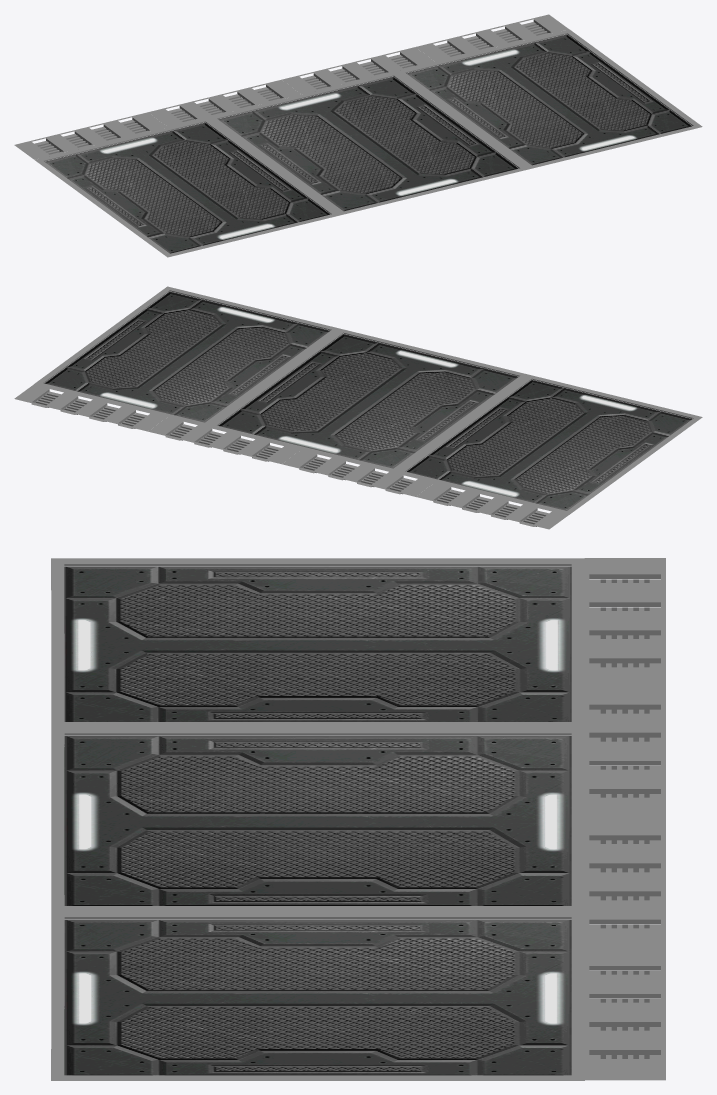
The model's file is floor_base2.FBX.
3 renders of one model, top to bottom at view 1: azimuth 30°, elevation 25°; view 2: azimuth 150°, elevation 25°; view 3: azimuth 270°, elevation 25°, orthographic. The views are drawn at different scales.
Visible parts, largest first — view 1: floor_1, floor_2, floor_3, floor_4; view 2: floor_1, floor_2, floor_3, floor_4; view 3: floor_1, floor_2, floor_3, floor_4.
Part boxes in pixels (x1,y1,x2,y2): floor_1: (45,34,692,253); floor_2: (35,29,702,257); floor_3: (14,14,568,159); floor_4: (34,22,548,154); floor_1: (44,291,692,510); floor_2: (34,286,702,514); floor_3: (14,384,568,529); floor_4: (32,391,548,526); floor_1: (64,566,571,1075); floor_2: (51,558,584,1080); floor_3: (584,558,665,1080); floor_4: (589,579,660,1063).
Bounding box in the file's own units: 655 × 5.15 × 326.
